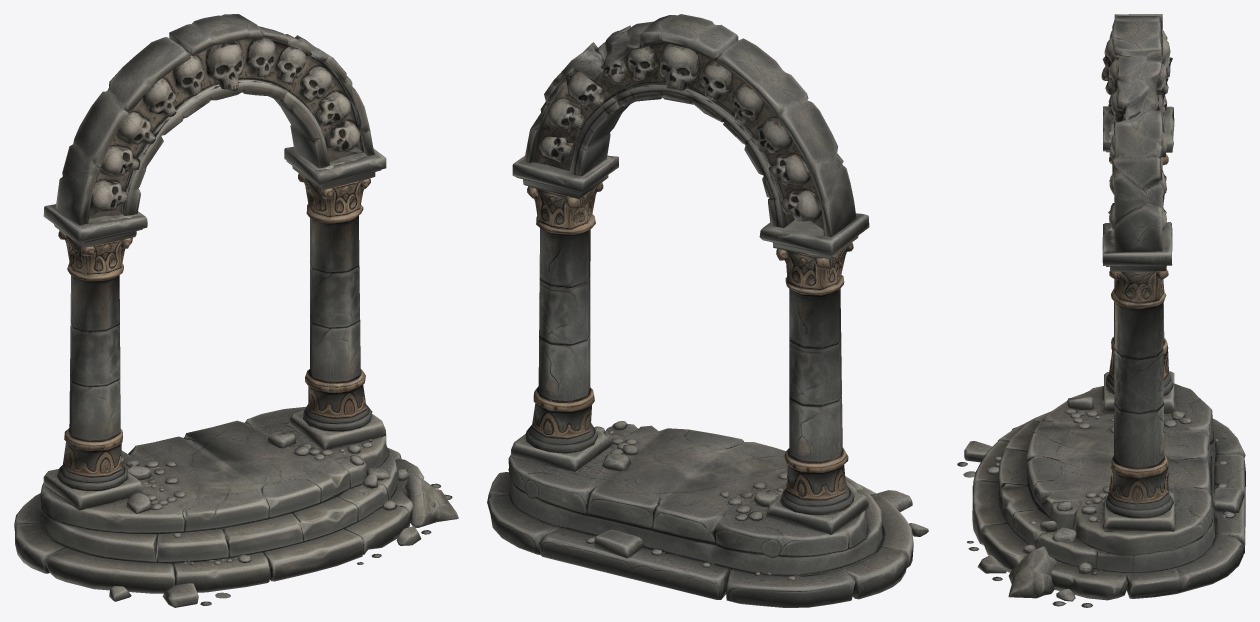
File: funerary-arch-ffa245974795.glb
The picture shows the model from 3 angles, left to right: view 1: azimuth 30°, elevation 25°; view 2: azimuth 150°, elevation 25°; view 3: azimuth 270°, elevation 25°; orthographic projection. The views are drawn at different scales.
Size of the model in its own units: 0.8028 by 0.9541 by 0.5128.
1 material, 1 textured.
